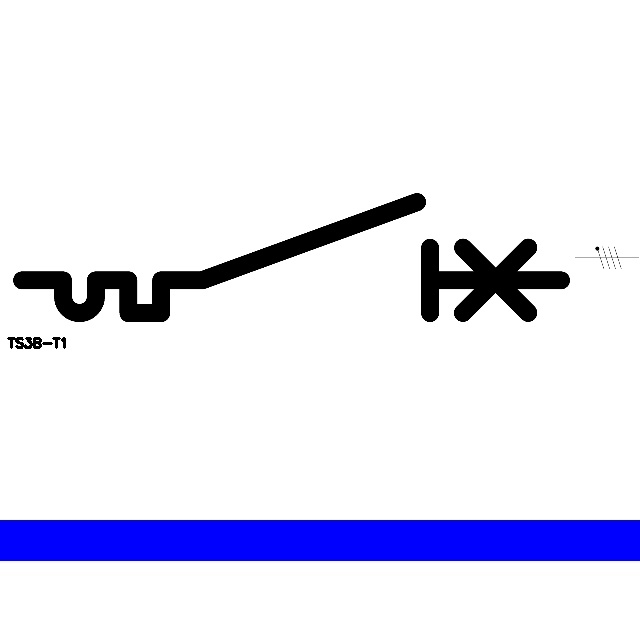interruptor_termomagnetico: (8, 188, 575, 327)
